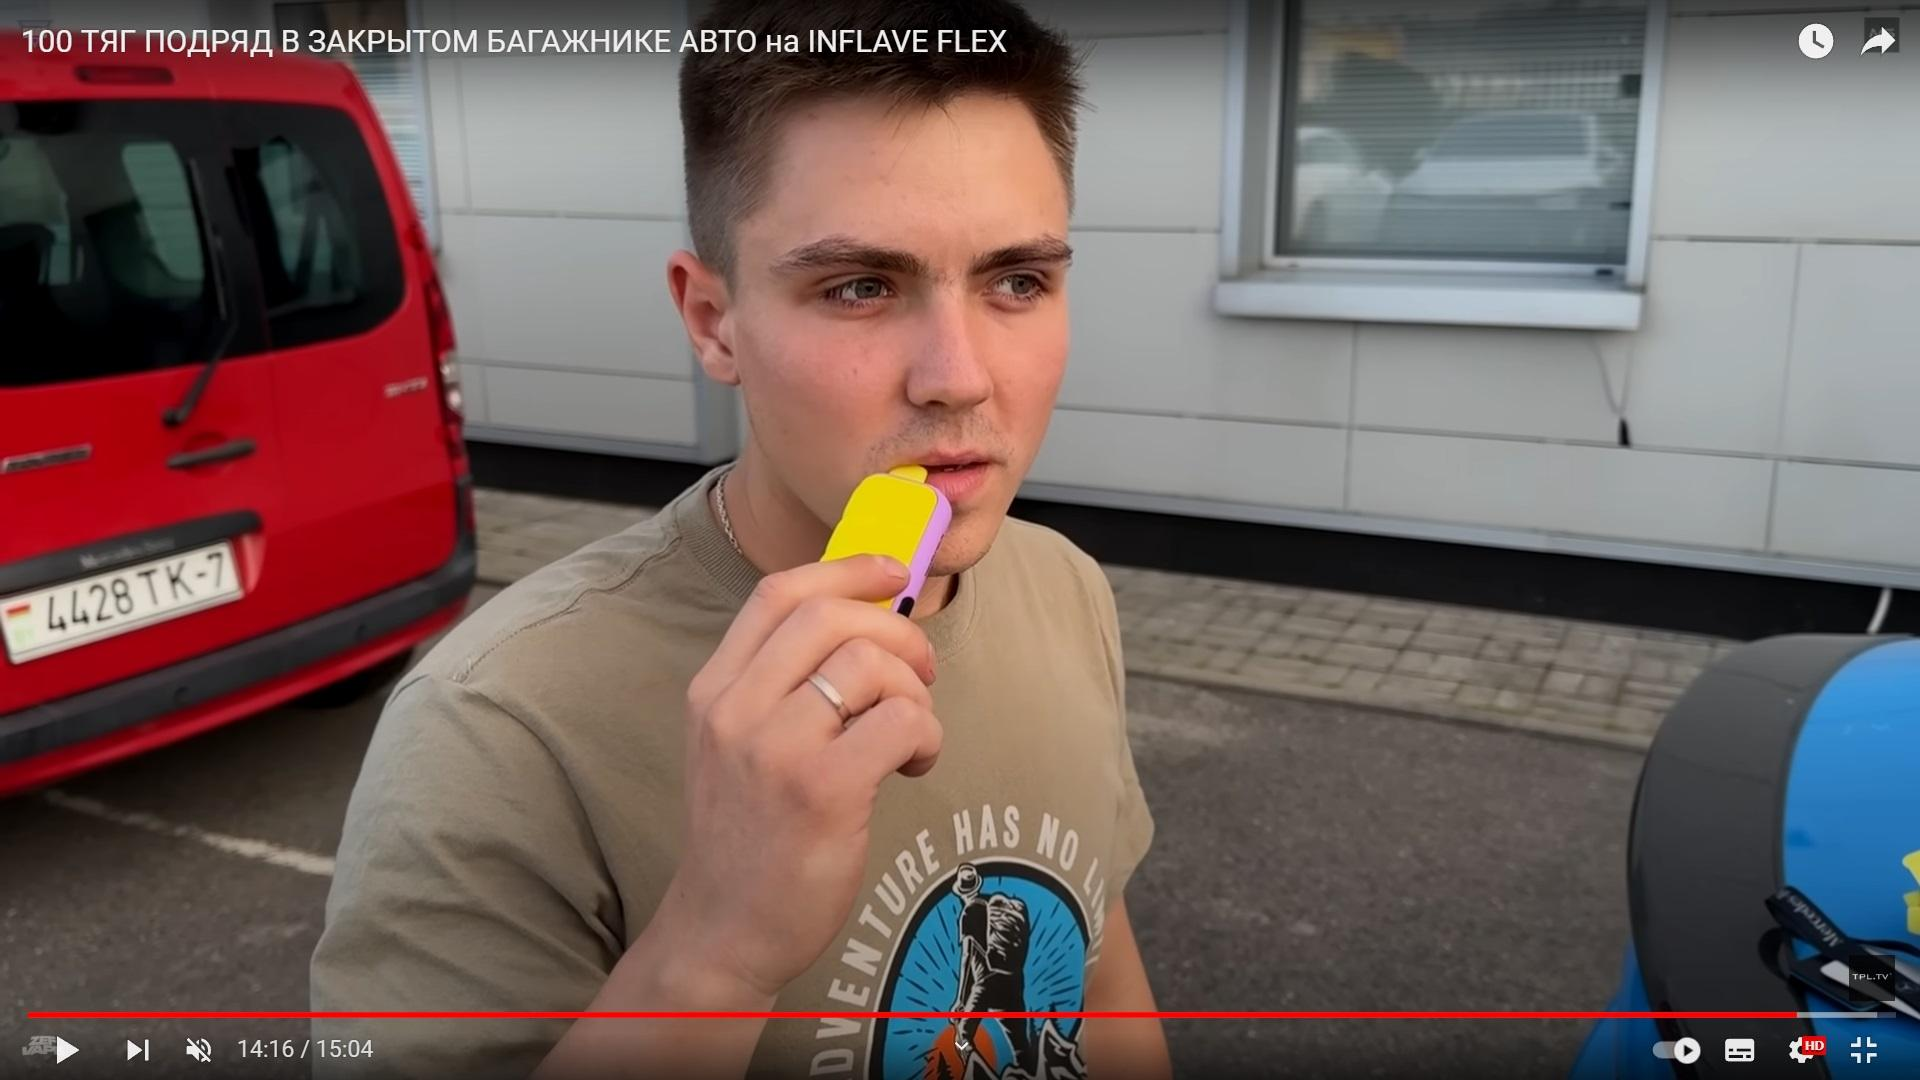Vape: (819, 467, 952, 615)
